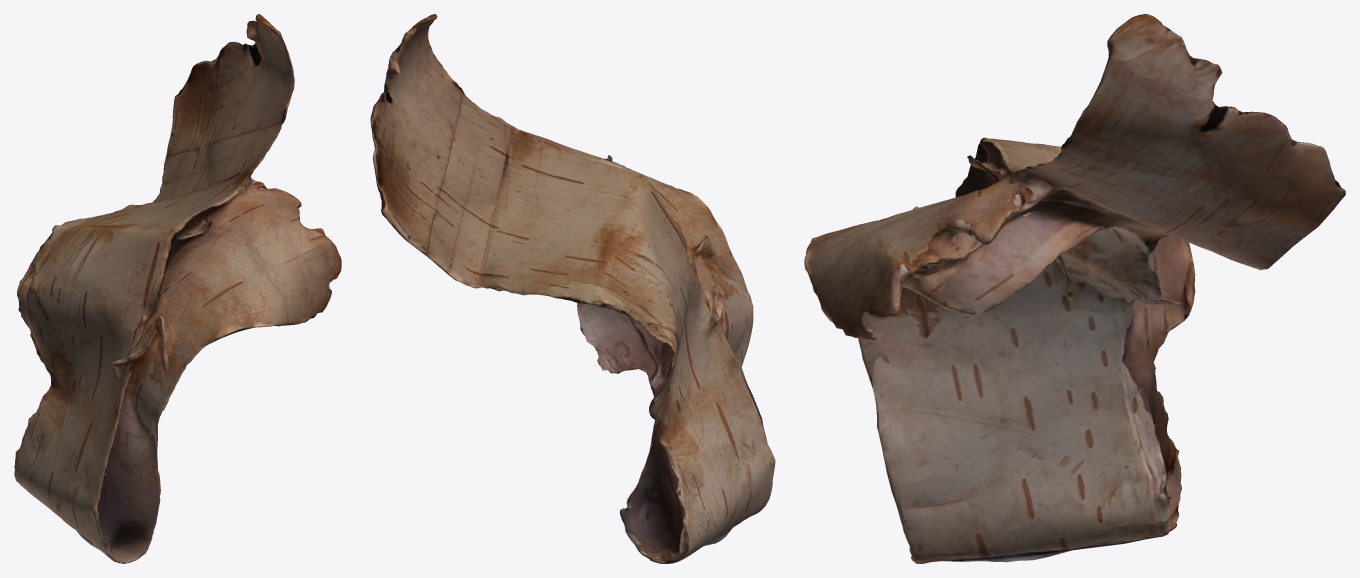
File: Écorce bouleau.obj
3 views of the same model, side by side, from view 1: azimuth 30°, elevation 25°; view 2: azimuth 150°, elevation 25°; view 3: azimuth 270°, elevation 25° (orthographic). The views are drawn at different scales.
Parts seen in each view (by area): view 1: Object; view 2: Object; view 3: Object.
Part boxes in pixels (box(x1,y1,x2,y2)): Object: box(14, 14, 341, 563); Object: box(370, 14, 775, 563); Object: box(804, 14, 1345, 563).
Size of the model in its own units: 0.3152 by 0.5159 by 0.3595.
Materials: 1 (1 with a texture image).
